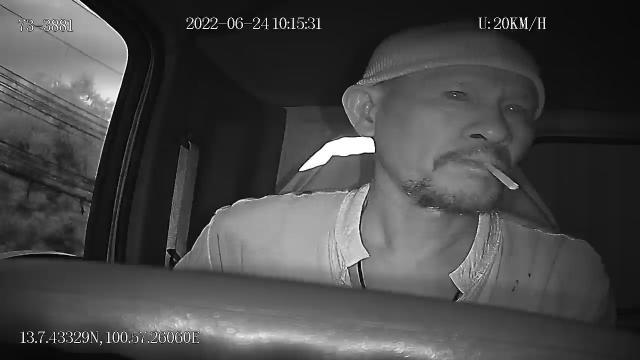SafeDriving: (436, 78, 476, 109), (496, 96, 530, 120)
Smoking: (481, 157, 521, 191)
